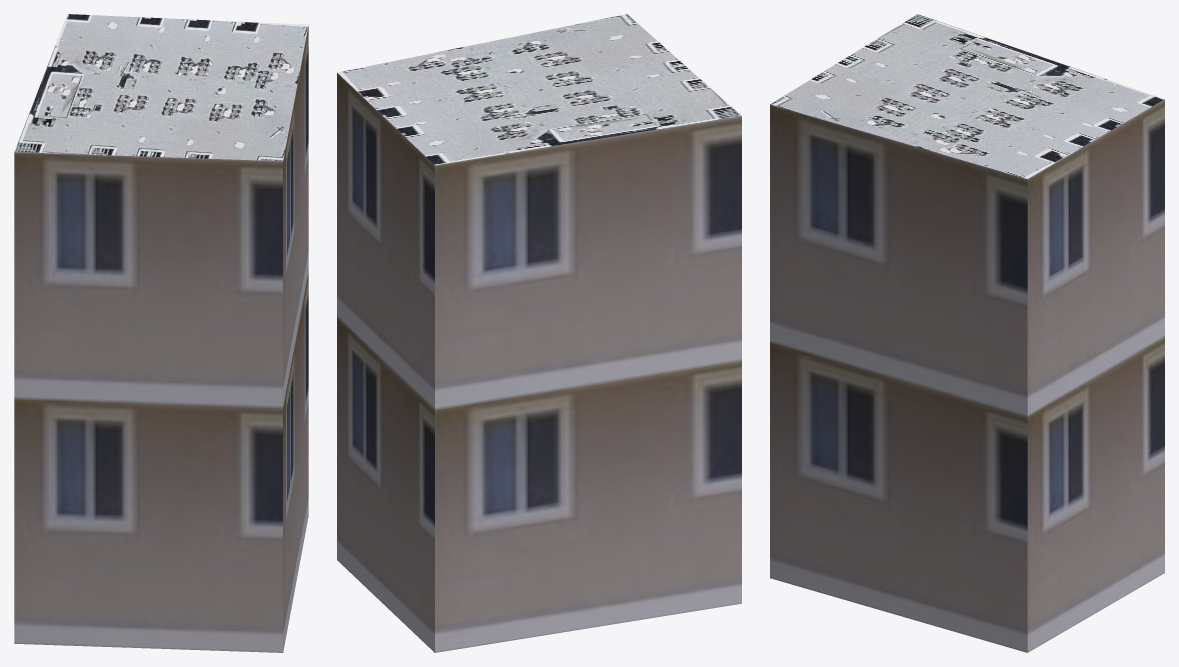
Rendered from ResTex__3807.fbx.
The picture shows the model from 3 angles, left to right: view 1: azimuth 30°, elevation 25°; view 2: azimuth 150°, elevation 25°; view 3: azimuth 270°, elevation 25°; orthographic projection. The views are drawn at different scales.
Parts seen in each view (by area): view 1: CityEngineMaterial_21_m, CityEngineMaterial_m; view 2: CityEngineMaterial_21_m, CityEngineMaterial_m; view 3: CityEngineMaterial_21_m, CityEngineMaterial_m.
Boxes of the visible parts, <box> form: CityEngineMaterial_21_m: <box>14,25,308,652</box>; CityEngineMaterial_m: <box>14,14,308,161</box>; CityEngineMaterial_21_m: <box>337,73,741,652</box>; CityEngineMaterial_m: <box>337,14,741,165</box>; CityEngineMaterial_21_m: <box>770,99,1164,652</box>; CityEngineMaterial_m: <box>770,14,1164,178</box>.
Size of the model in its own units: 4.48 by 6 by 4.53.
Materials: 2 (2 with a texture image).
